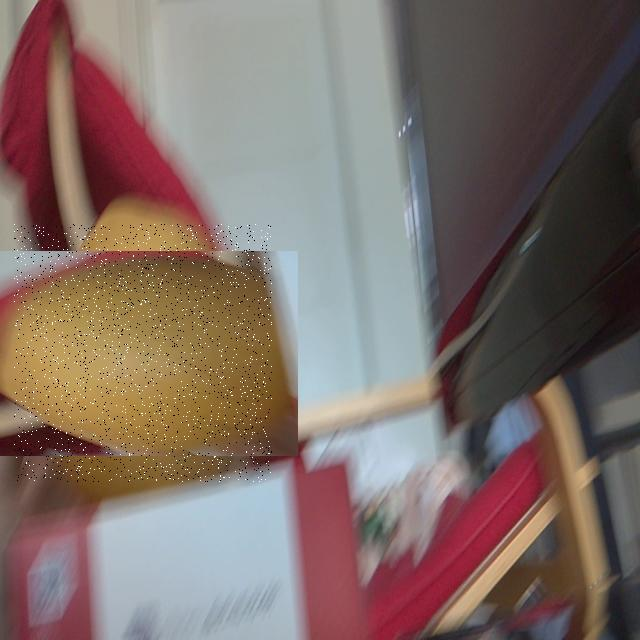pear: (14, 224, 272, 482)
